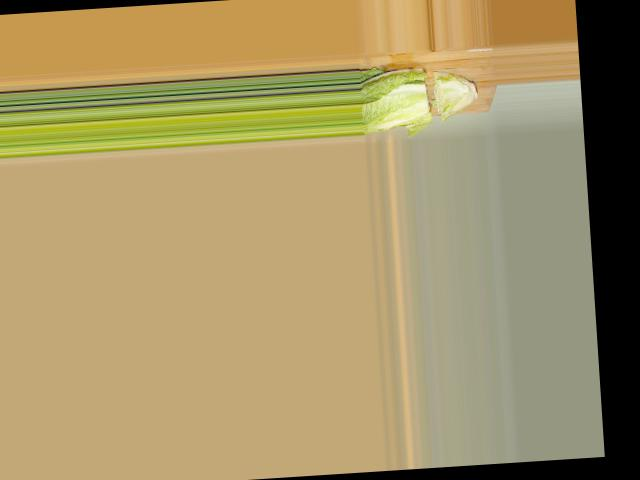lettuce: (360, 56, 478, 137)
